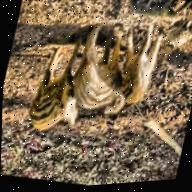boar: (9, 38, 86, 153), (67, 30, 133, 132), (112, 25, 175, 114)
